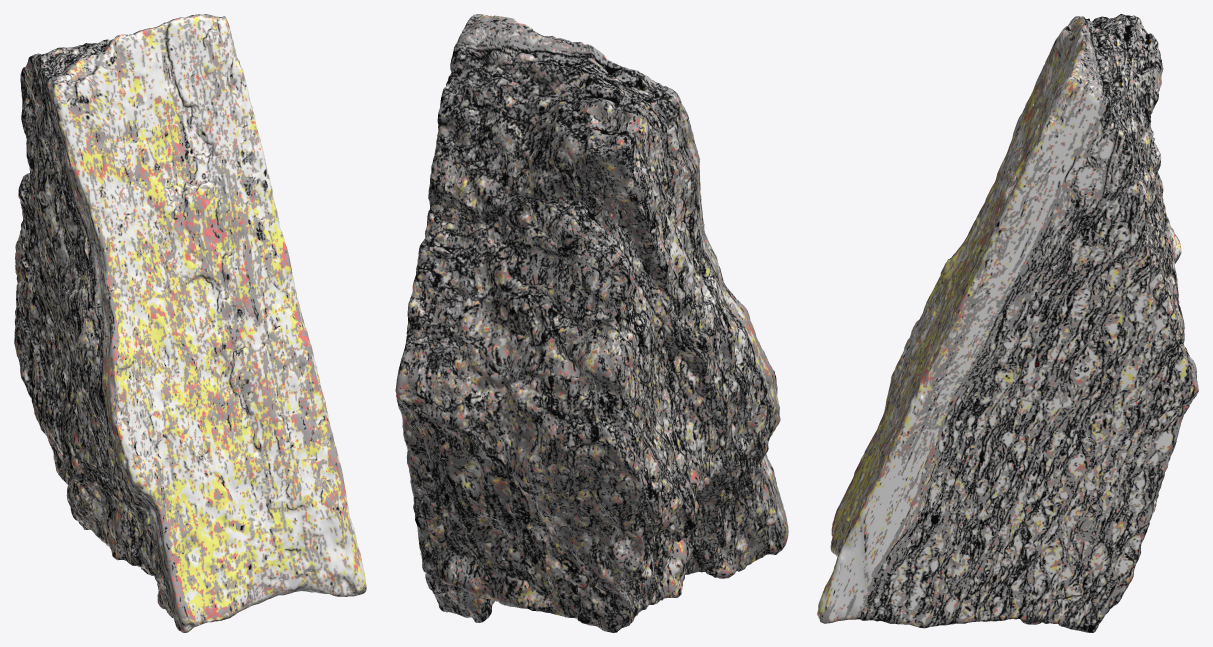
The model's file is stylize color.glb.
3 views of the same model, side by side, from view 1: azimuth 30°, elevation 25°; view 2: azimuth 150°, elevation 25°; view 3: azimuth 270°, elevation 25° (orthographic). The views are drawn at different scales.
Visible parts, largest first — view 1: Metashape 100000 export; view 2: Metashape 100000 export; view 3: Metashape 100000 export.
Part boxes in pixels (x1,y1,x2,y2): Metashape 100000 export: (14,14,366,632); Metashape 100000 export: (395,14,788,632); Metashape 100000 export: (817,14,1198,632).
Bounding box in the file's own units: 0.4947 × 1.17 × 0.7348.
1 material, 1 textured.
